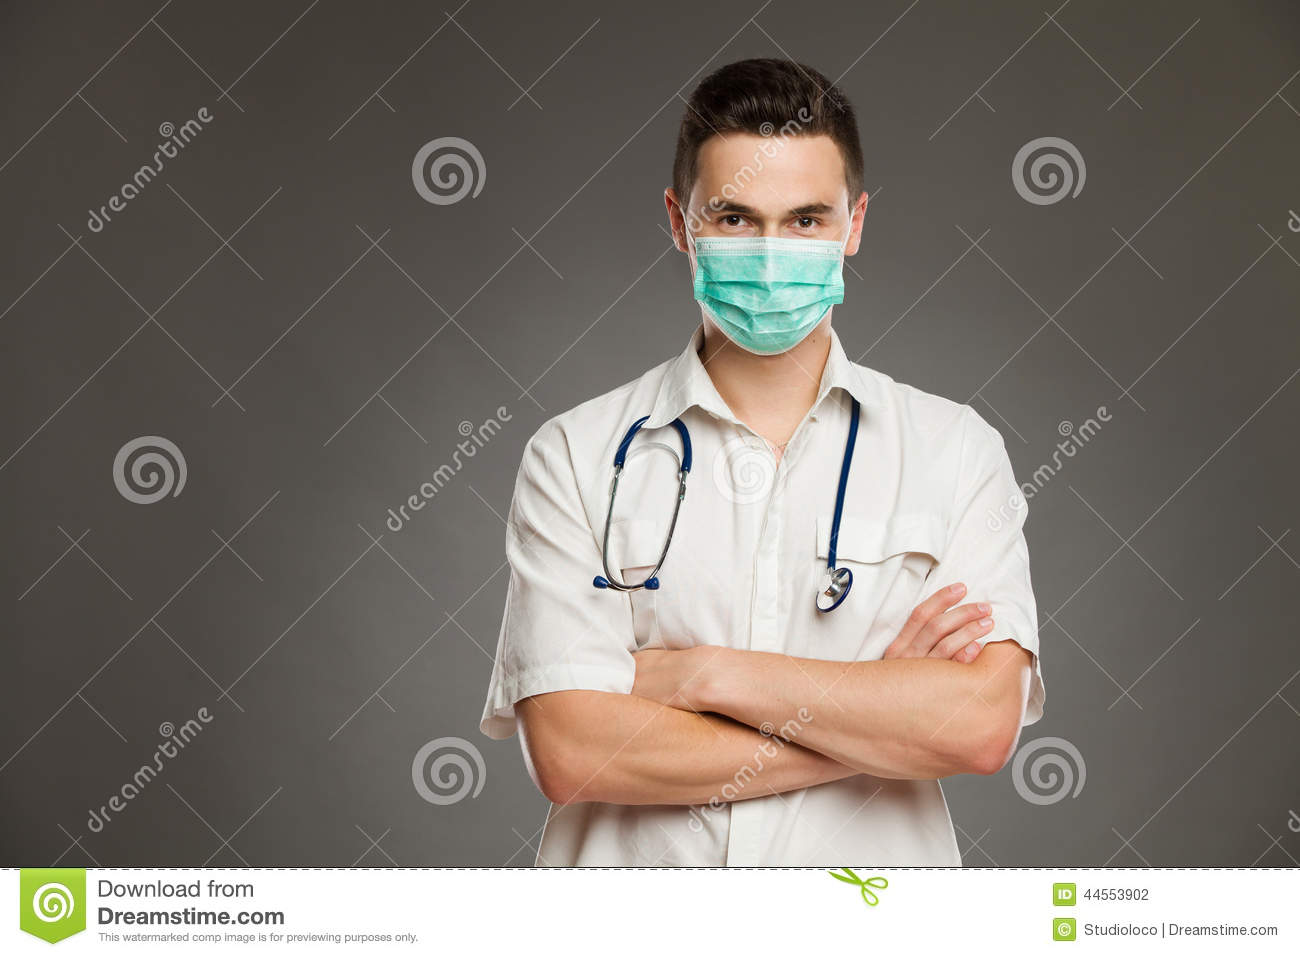mask: (679, 244, 866, 354)
